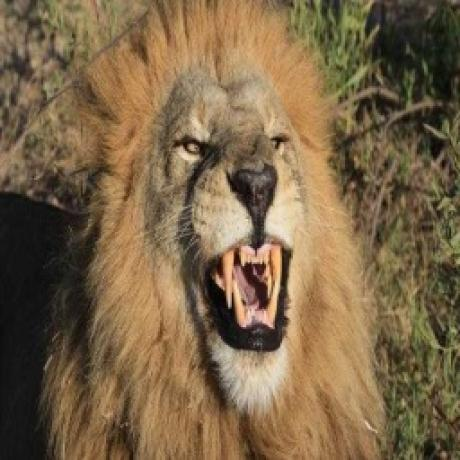Lion: (0, 0, 394, 460)
